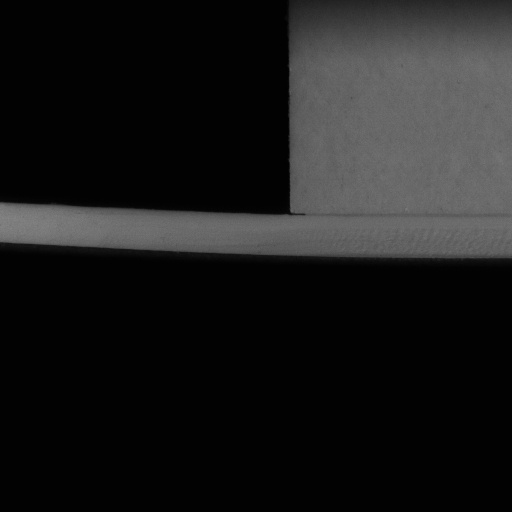changdai: (0, 202, 291, 259)
